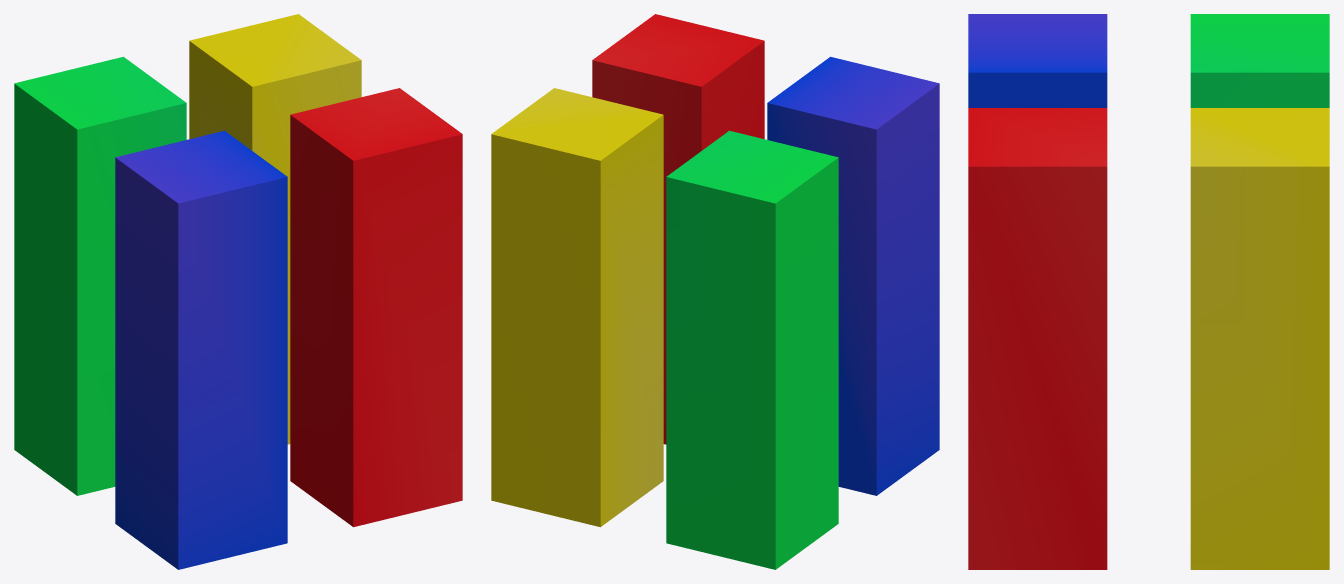
File: character_placeholders.glb
3 views of the same model, side by side, from view 1: azimuth 30°, elevation 25°; view 2: azimuth 150°, elevation 25°; view 3: azimuth 270°, elevation 25° (orthographic). The views are drawn at different scales.
Parts seen in each view (by area): view 1: red_placeholder, blue_placeholder, green_placeholder, yellow_placeholder; view 2: green_placeholder, yellow_placeholder, blue_placeholder, red_placeholder; view 3: red_placeholder, yellow_placeholder, blue_placeholder, green_placeholder.
Boxes of the visible parts, x1,y1,x2,y2 form: red_placeholder: [290, 88, 462, 527]; blue_placeholder: [115, 130, 287, 569]; green_placeholder: [14, 56, 186, 495]; yellow_placeholder: [189, 14, 361, 444]; green_placeholder: [666, 130, 838, 569]; yellow_placeholder: [491, 88, 663, 527]; blue_placeholder: [767, 56, 939, 495]; red_placeholder: [592, 14, 764, 444]; red_placeholder: [968, 108, 1107, 569]; yellow_placeholder: [1190, 108, 1329, 569]; blue_placeholder: [968, 14, 1107, 107]; green_placeholder: [1190, 14, 1329, 107].
Size of the model in its own units: 1.62 by 2 by 1.62.
